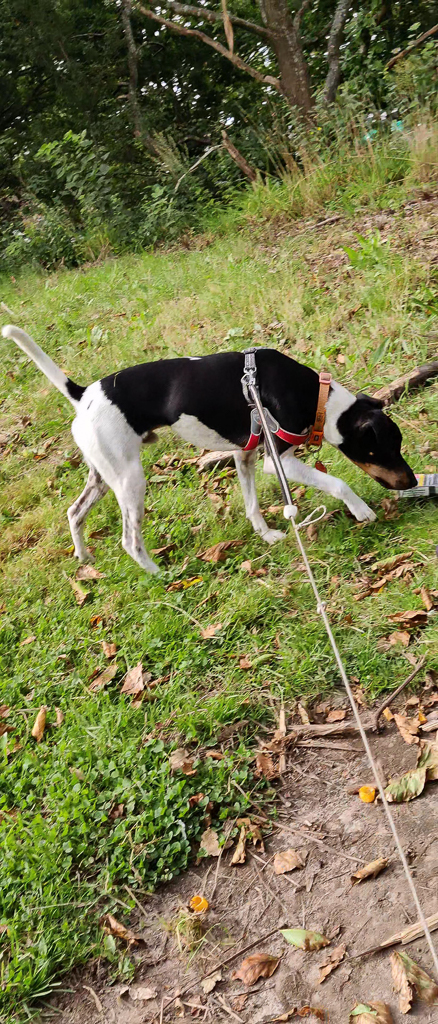Dog: (0, 322, 425, 581)
